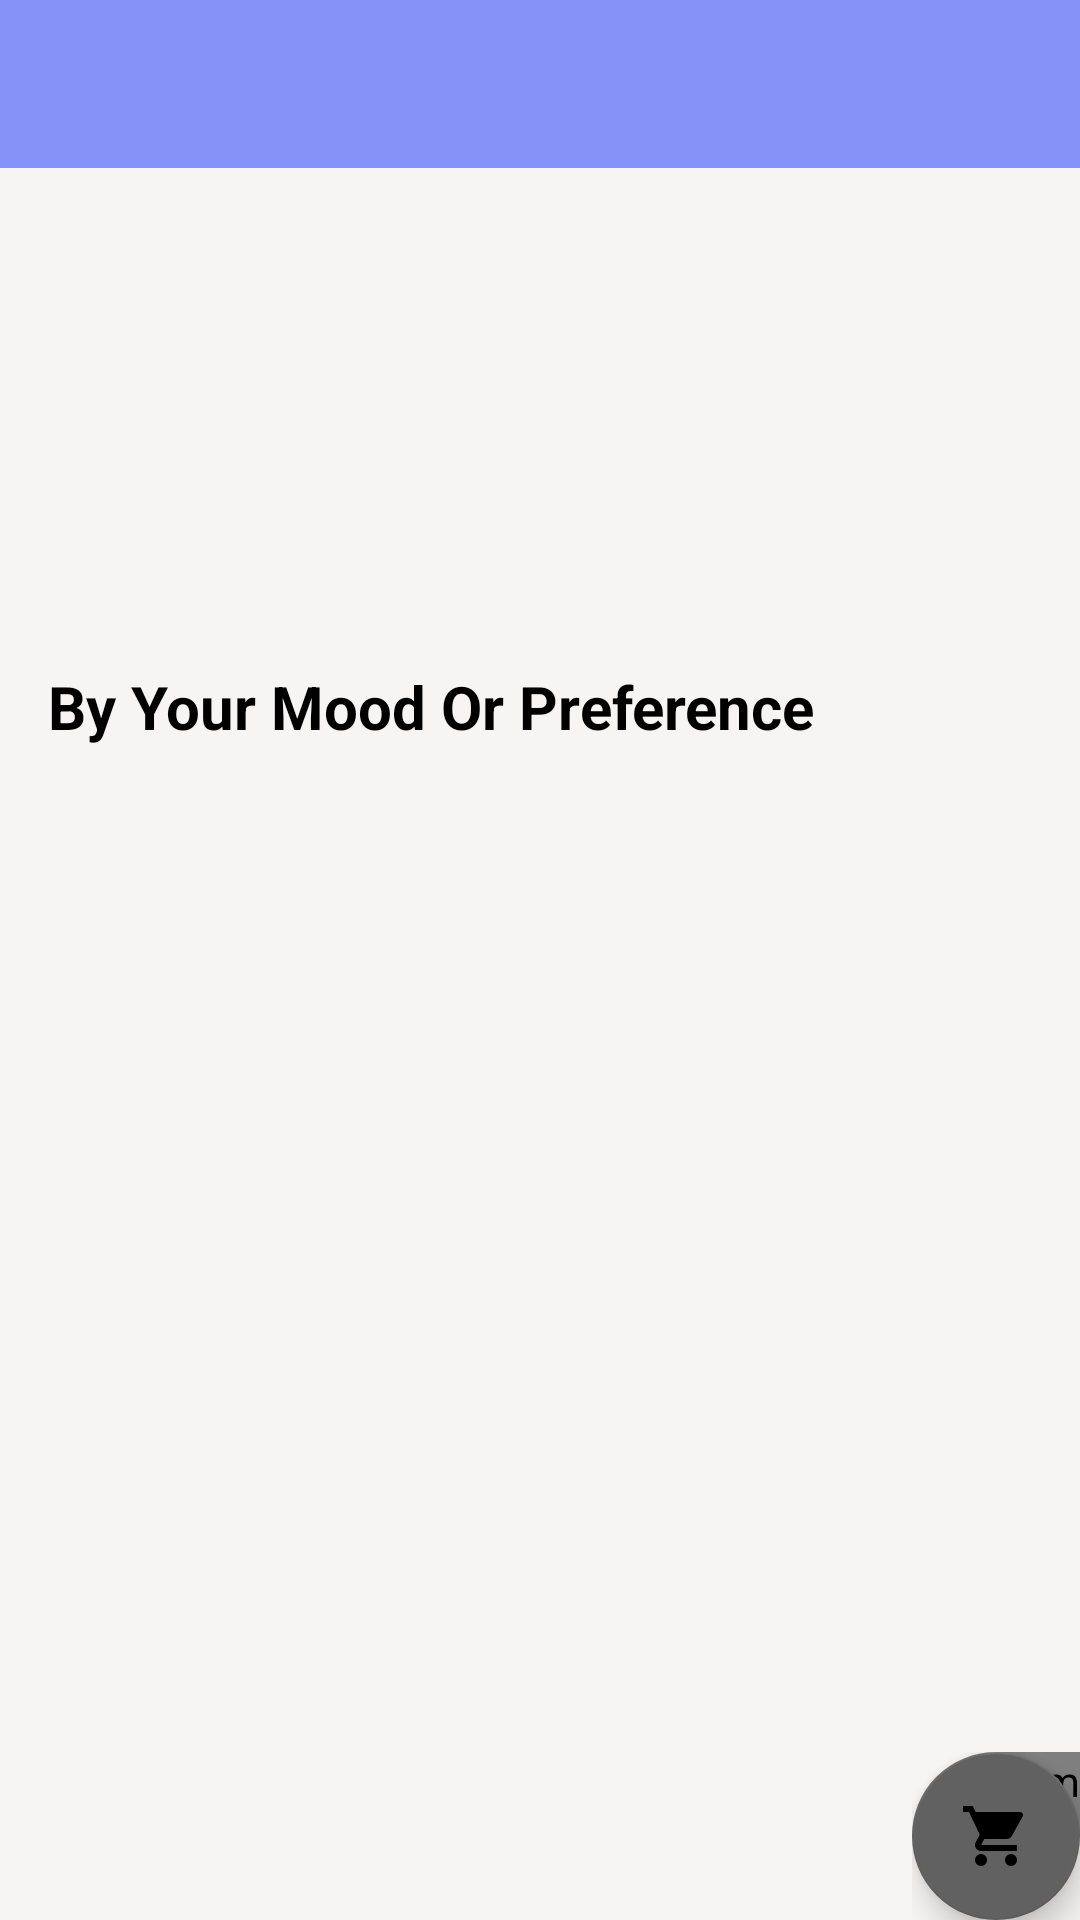

Point at icon controls on the screen. Image size 1080×1920, points as [x,y].
shopping cart: [996,1836]
